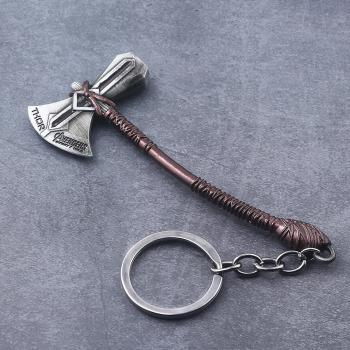THOR Hammer: (27, 44, 338, 266)
